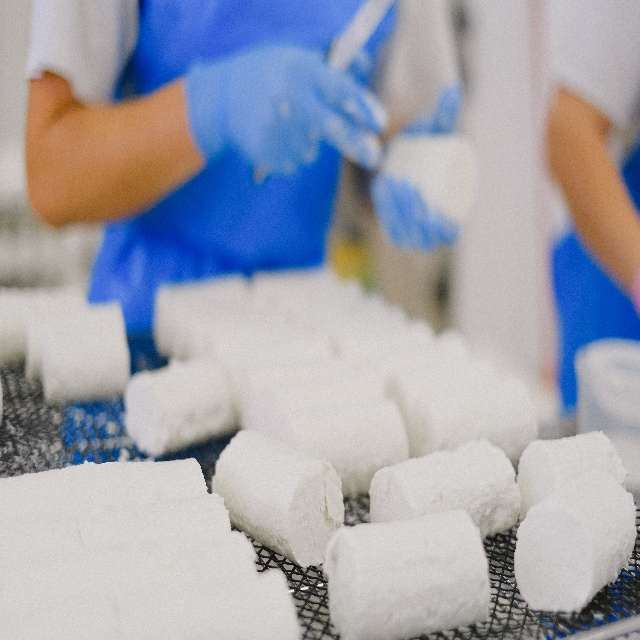Guantes: (183, 46, 388, 178), (370, 84, 464, 251)
